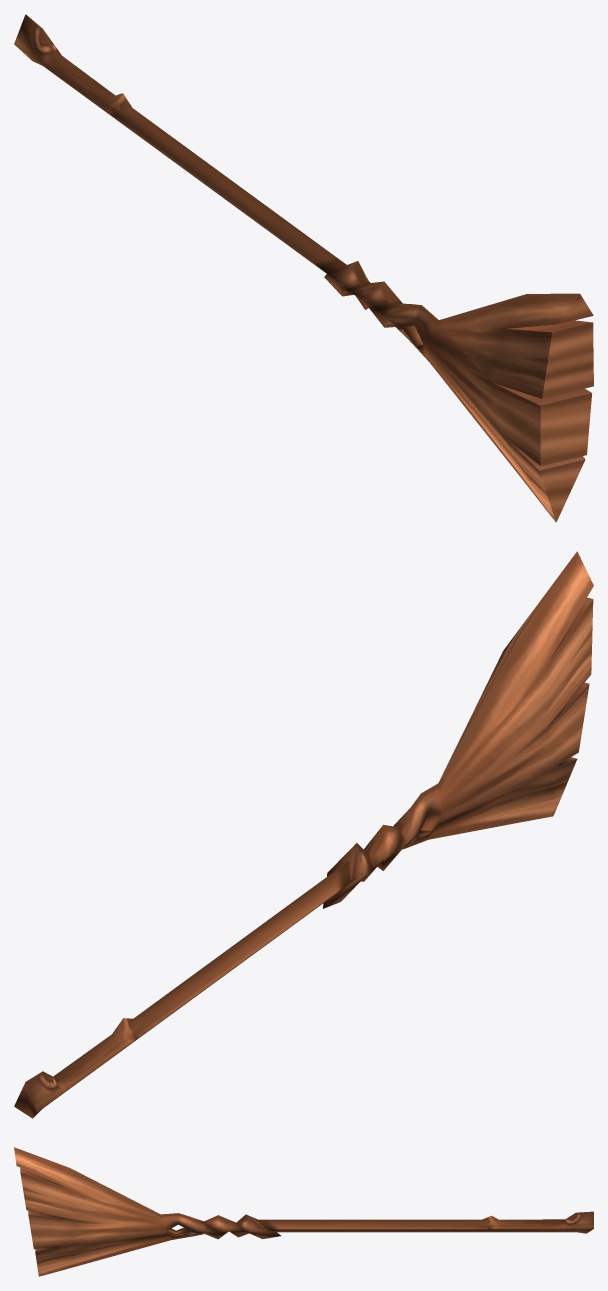
File: pet_22_02_handle.FBX
The picture shows the model from 3 angles, top to bottom: view 1: azimuth 30°, elevation 25°; view 2: azimuth 150°, elevation 25°; view 3: azimuth 270°, elevation 25°; orthographic projection. The views are drawn at different scales.
Visible parts, largest first — view 1: pet_22_02_handle; view 2: pet_22_02_handle; view 3: pet_22_02_handle.
Boxes of the visible parts, x1=… form: pet_22_02_handle: x1=14, y1=14, x2=593, y2=522; pet_22_02_handle: x1=14, y1=551, x2=593, y2=1118; pet_22_02_handle: x1=14, y1=1147, x2=593, y2=1276.
Bounding box in the file's own units: 9.38 × 37.34 × 151.
